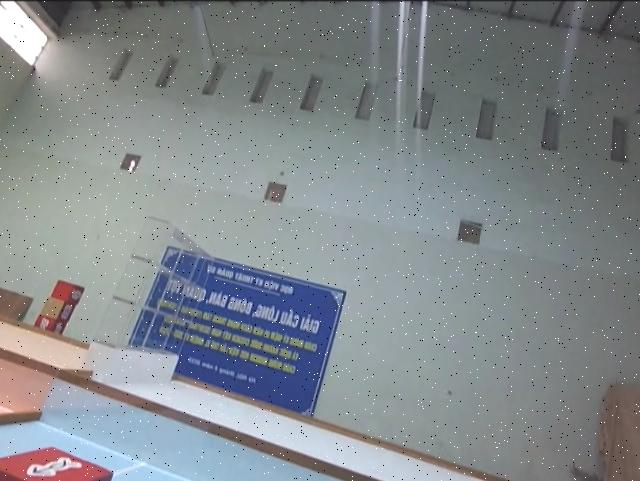R2 Real: (0, 442, 116, 481)
